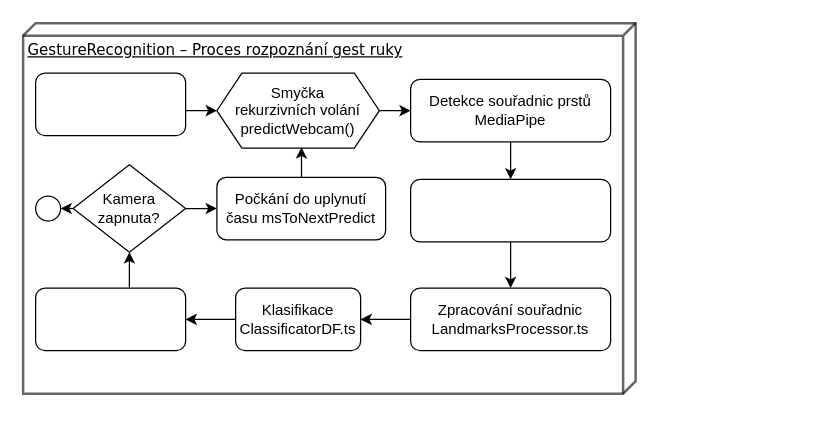
This 831x431 diagram has some shape labels left out. The shapes that lost their labels are listed below. From the top down, each one's box as (x1, y1, x2, y2) in pixels, then its label:
(34, 72, 186, 136): Inicializace modelů, zapnutí webkamery
(409, 178, 611, 242): Vykreslení detekovaných souřadnic
(34, 287, 186, 351): Poslání události s výsledky klasifikace
